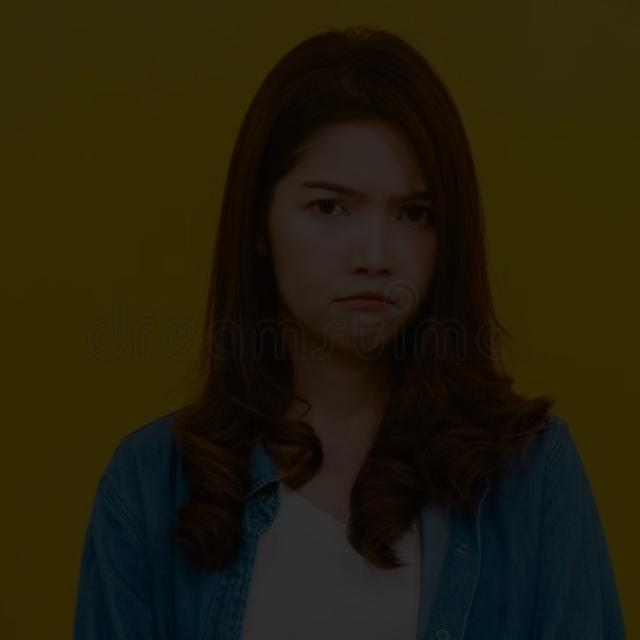Sad: (245, 89, 464, 376)
